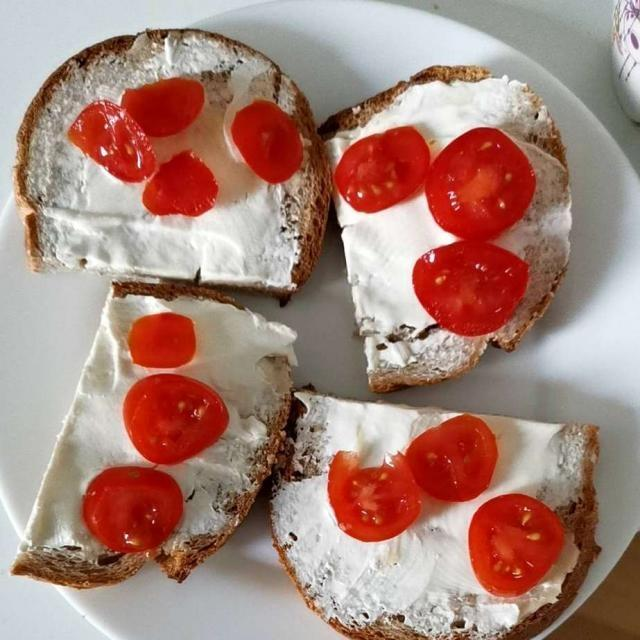bread: (15, 26, 605, 635)
cheese: (23, 40, 564, 627)
